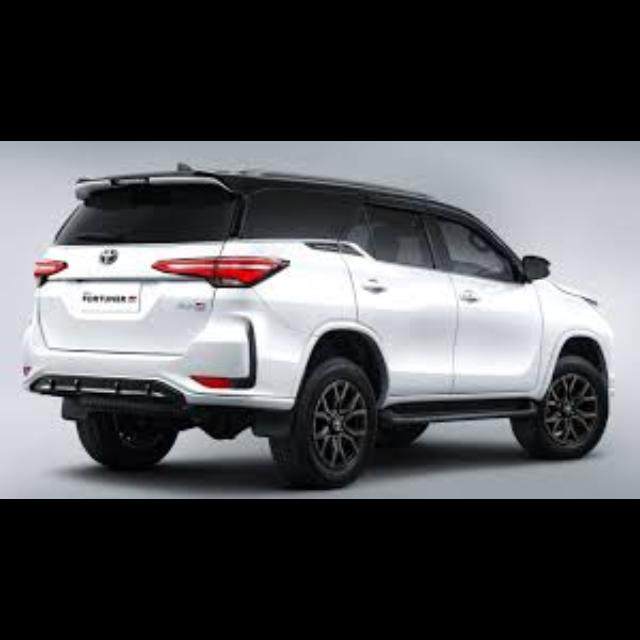number-plate: (77, 286, 139, 312)
vehicles: (16, 165, 613, 489)
